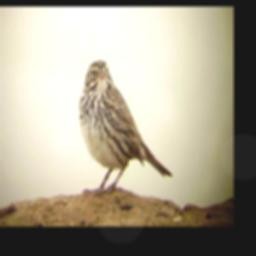Sparrow: (78, 58, 174, 196)
